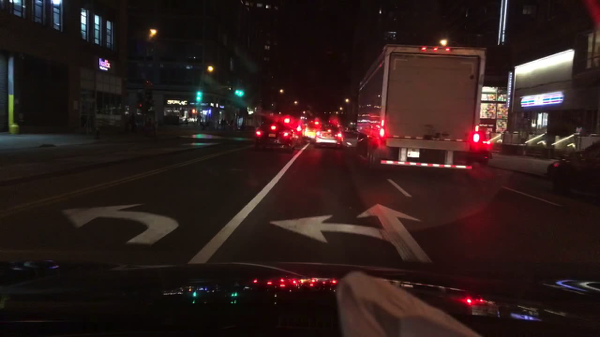car: (547, 140, 599, 200), (256, 118, 297, 152), (315, 121, 345, 149), (474, 129, 491, 166), (277, 119, 301, 145), (303, 119, 323, 144)
person: (129, 111, 137, 132), (219, 118, 225, 131), (223, 118, 227, 132)
traffic light: (234, 89, 244, 98), (197, 91, 202, 104), (191, 107, 196, 115)
truck: (352, 43, 486, 176)
